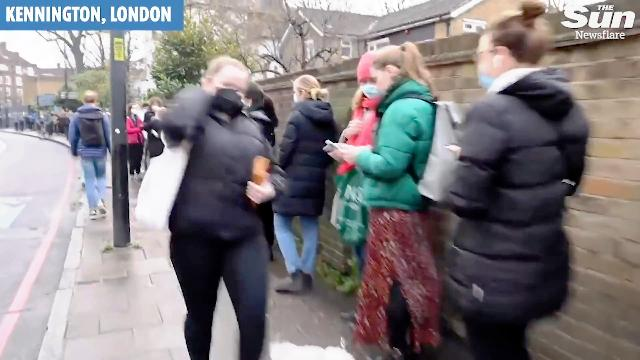berdiri: (434, 10, 588, 360), (338, 35, 450, 360), (259, 68, 341, 302)
berjalan: (141, 56, 287, 356)
